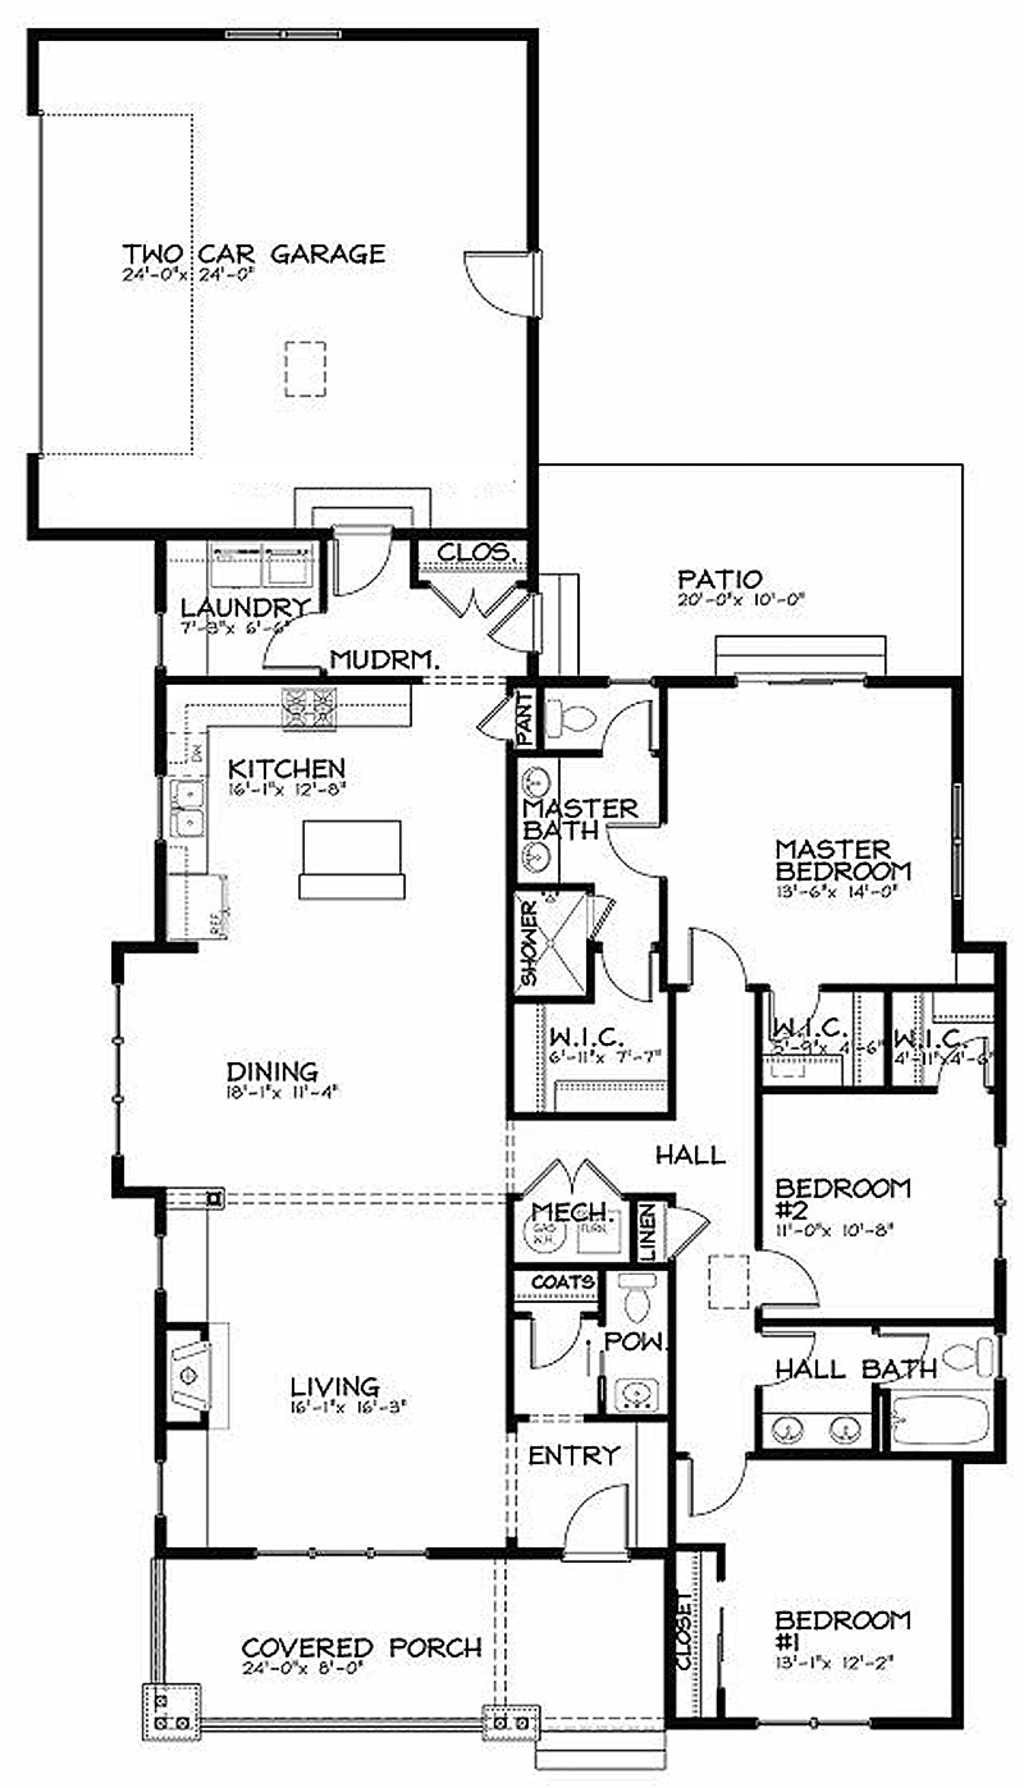door: (451, 246, 564, 339), (397, 558, 522, 632), (314, 515, 406, 614), (506, 1147, 634, 1206), (684, 914, 767, 1003), (661, 1439, 745, 1525), (928, 1033, 1010, 1111), (586, 810, 664, 885), (859, 1308, 936, 1383), (262, 589, 328, 672), (559, 1475, 625, 1556), (745, 1228, 814, 1305), (603, 695, 670, 764), (495, 597, 561, 667), (521, 1305, 586, 1372), (597, 933, 650, 1014), (772, 982, 836, 1048), (750, 1331, 809, 1393)
large_sink: (503, 683, 603, 758), (600, 1264, 675, 1336), (934, 1327, 1010, 1397)
small_sink: (742, 1397, 867, 1470), (514, 758, 581, 885), (611, 1378, 675, 1425)
tub: (875, 1389, 1020, 1461)
twin_sink: (136, 733, 231, 853)
window: (936, 764, 981, 922)
